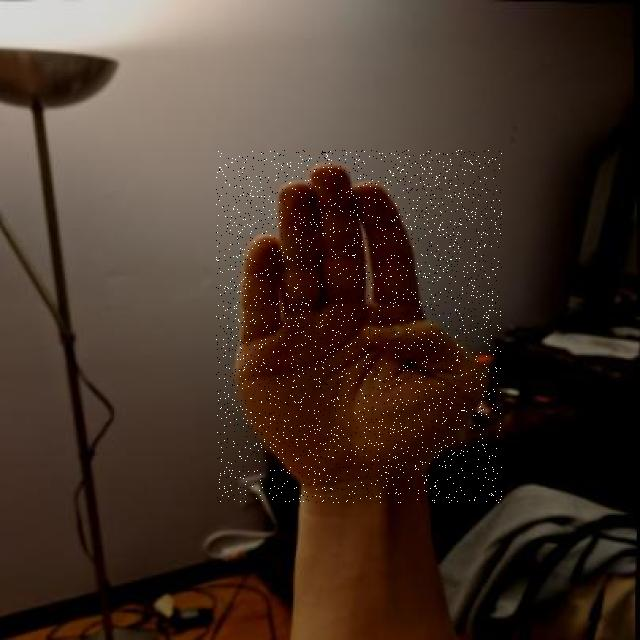B: (216, 150, 502, 503)
